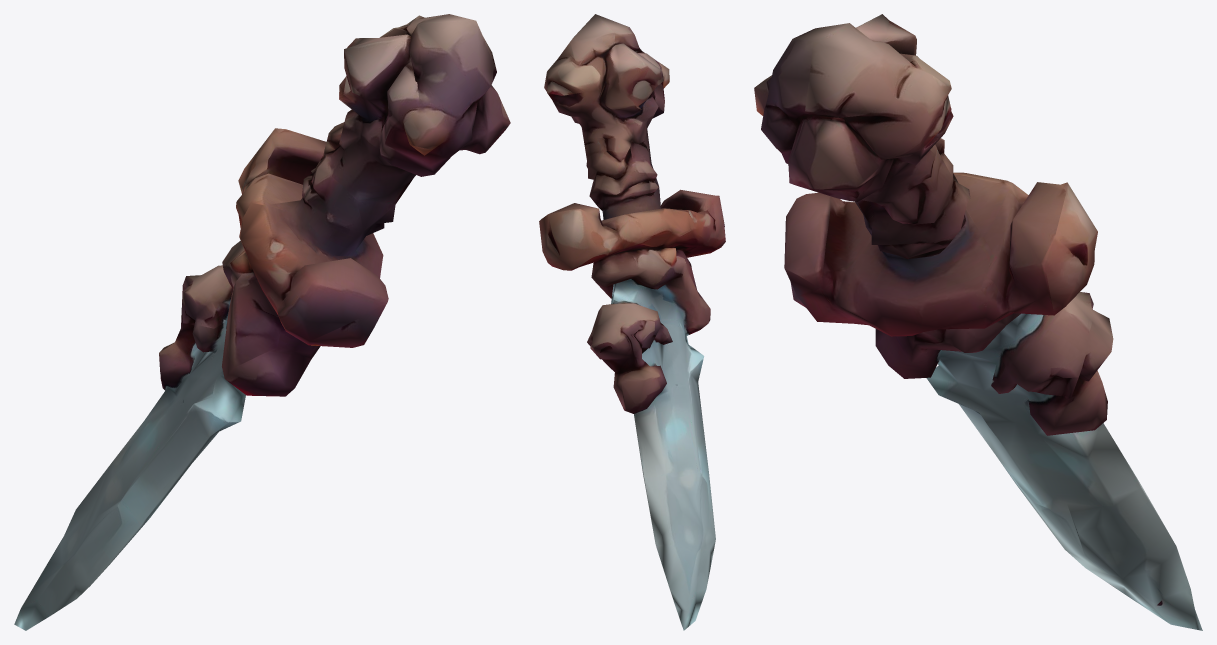
Rendered from relic-echo.glb.
3 renders of one model, left to right at view 1: azimuth 30°, elevation 25°; view 2: azimuth 150°, elevation 25°; view 3: azimuth 270°, elevation 25°, orthographic. The views are drawn at different scales.
Parts seen in each view (by area): view 1: tripo_node_e1b046a7-1490-4522-b324-49ca7c3002e3; view 2: tripo_node_e1b046a7-1490-4522-b324-49ca7c3002e3; view 3: tripo_node_e1b046a7-1490-4522-b324-49ca7c3002e3.
Boxes of the visible parts, <box> form: tripo_node_e1b046a7-1490-4522-b324-49ca7c3002e3: <box>14,14,510,630</box>; tripo_node_e1b046a7-1490-4522-b324-49ca7c3002e3: <box>539,14,725,630</box>; tripo_node_e1b046a7-1490-4522-b324-49ca7c3002e3: <box>754,14,1202,630</box>.
Bounding box in the file's own units: 0.5212 × 0.9926 × 0.5368.
Materials: 1 (1 with a texture image).
